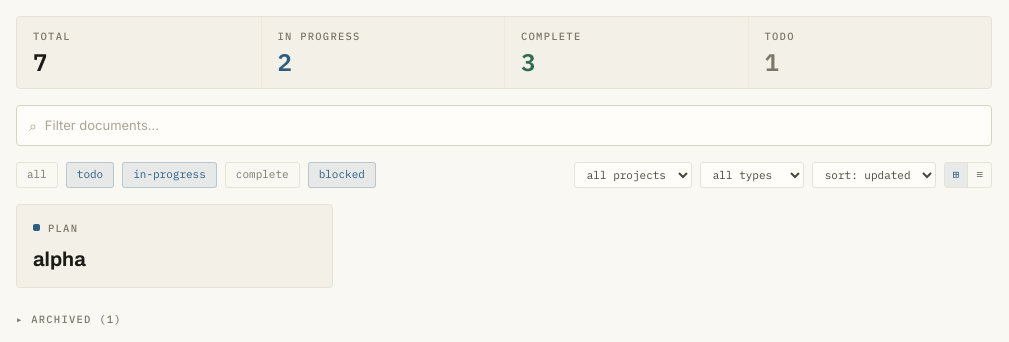
RegistryView › switches to list rows on toggle and persists the choice
What coordinates should you click on to do the following:
click the button with test id "view-list"
I would click on:
 (979, 175)
Its box is top-left (967, 163), bottom-right (991, 187).
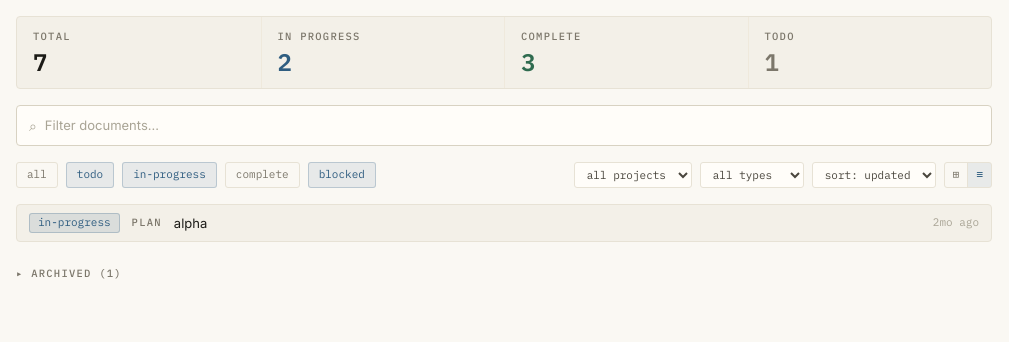
Result: the number of links with class "doc-row" is 1 at top-left (29, 213), bottom-right (979, 233)
